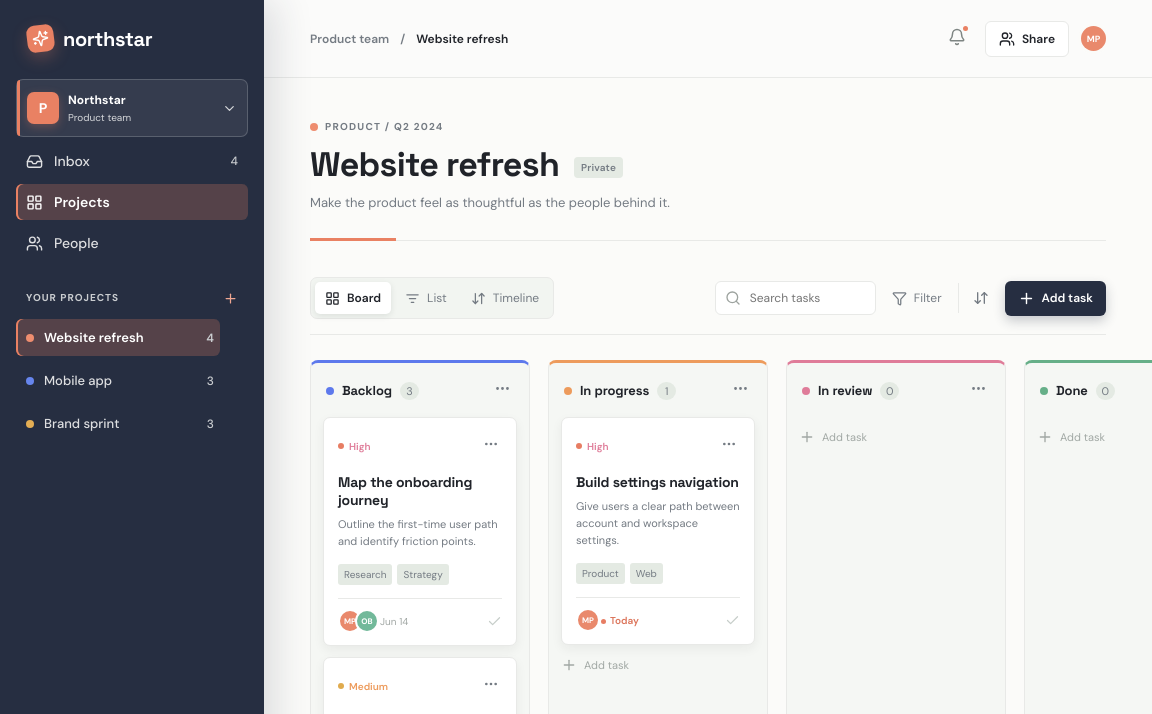
Task creation (Add task modal) › saves issue edits only after Save and discards them with the X control
Click the heading "Map the onboarding journey".
click(405, 491)  # box [338,473,472,509]
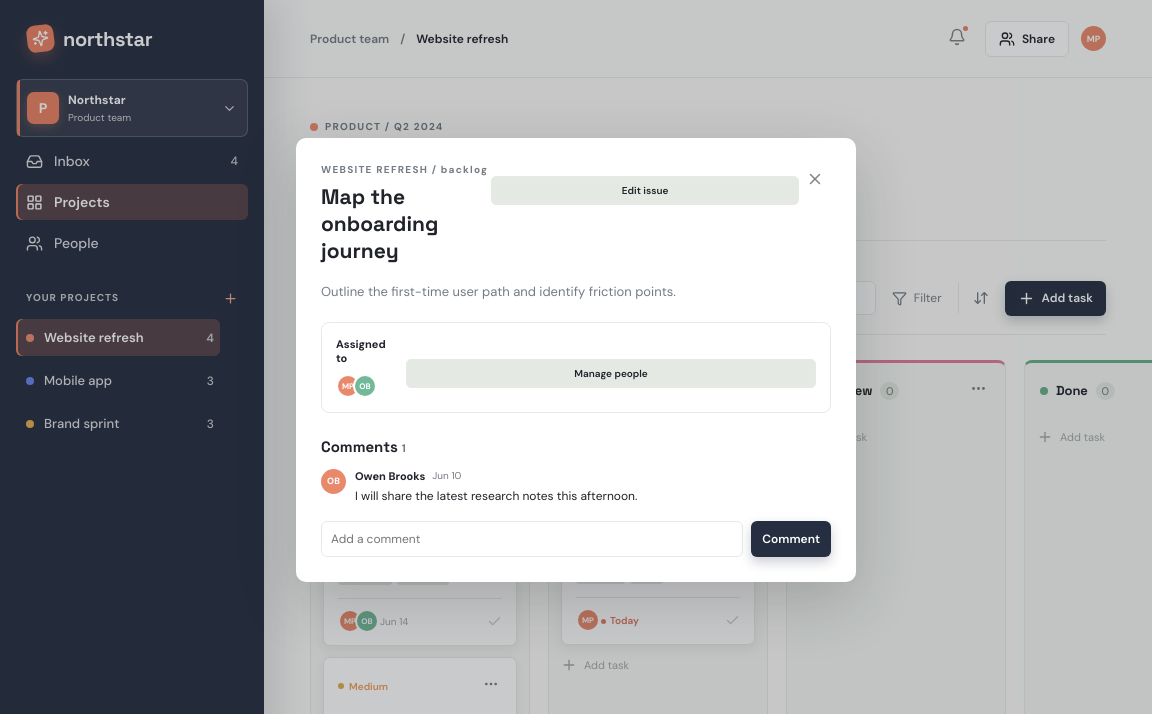
Click the button "Edit issue".
click(645, 190)  # box [491,176,799,205]
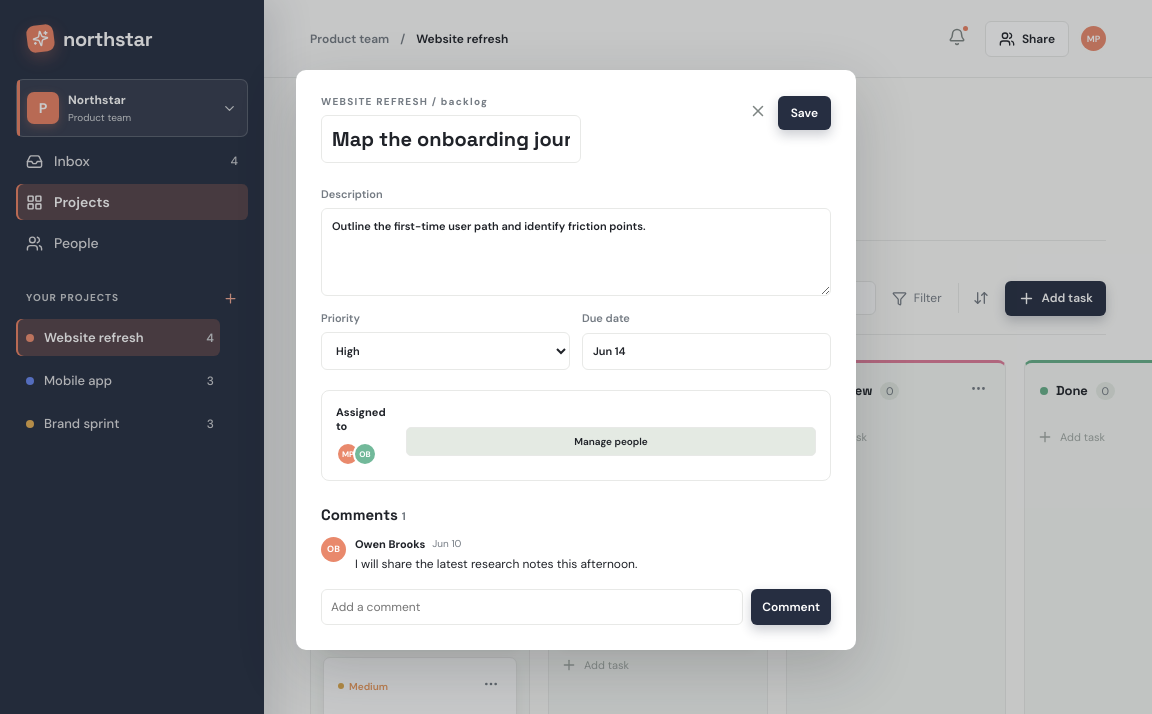
Replace the text in the field named "Issue title" with "Discarded title" at [451, 139], box [321,115,581,163]
Click the button named "Discard issue changes".
click(758, 113)  # box [742,95,774,131]
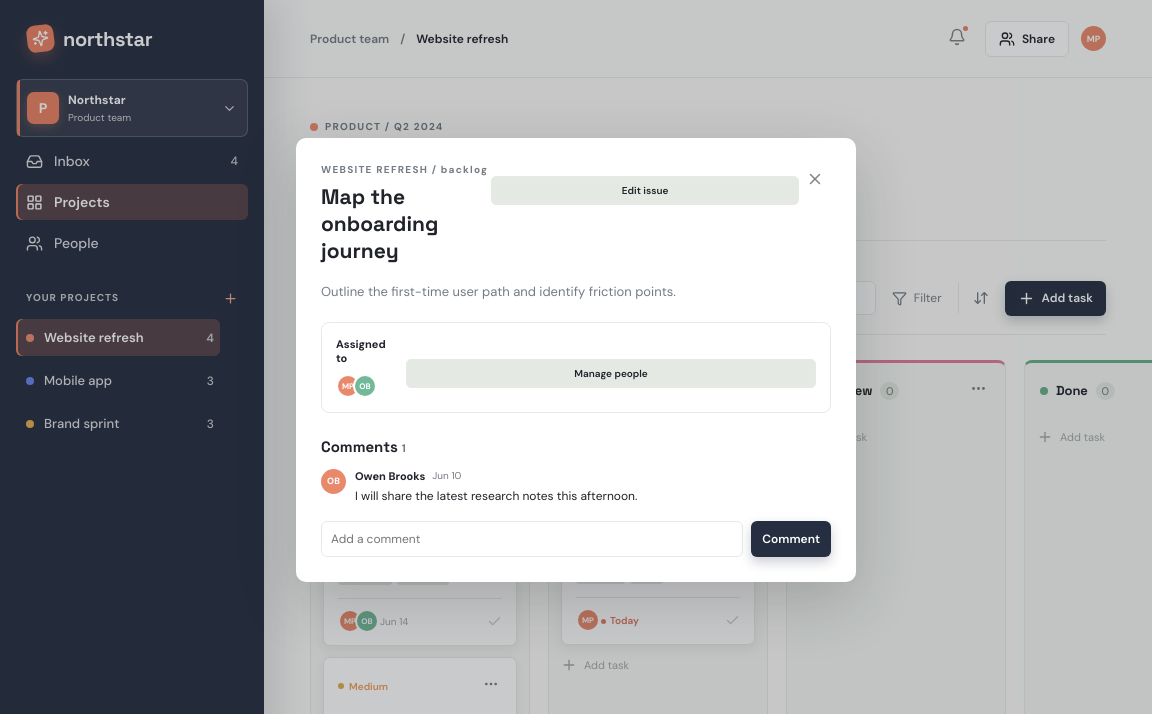
Result: the dialog "Map the onboarding journey" is shown at [321,183,438,264]
Click the button "Edit issue".
click(645, 190)  # box [491,176,799,205]
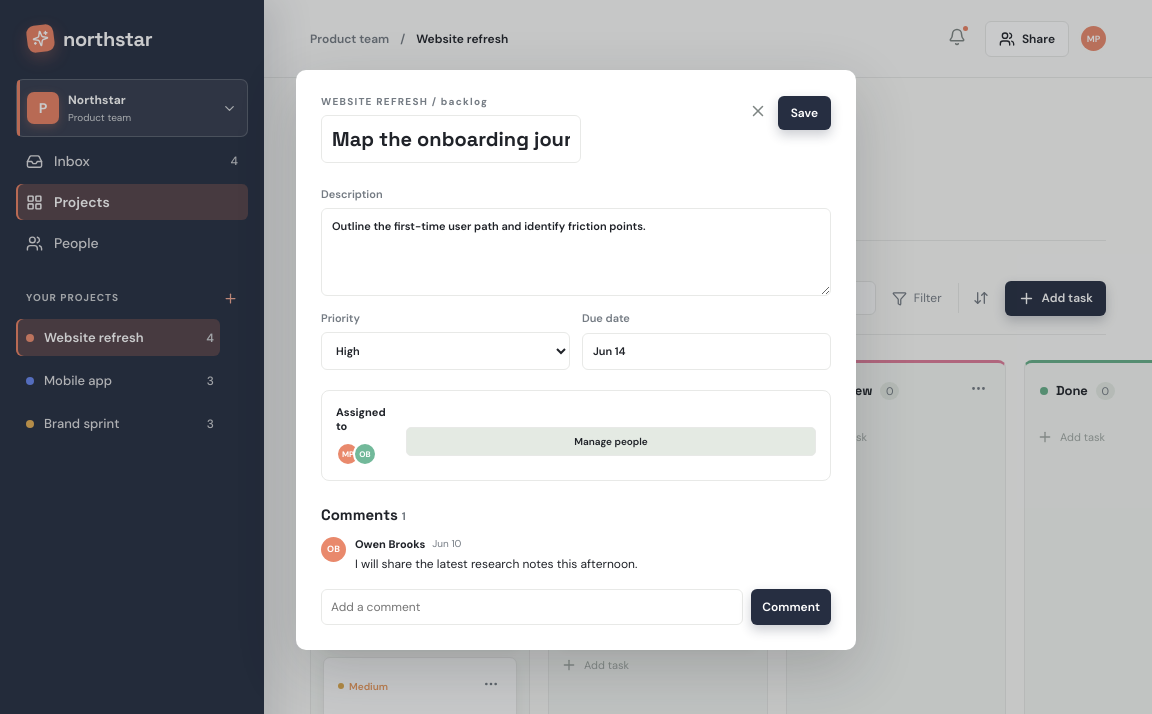
Replace the text in the field named "Issue title" with "Saved title" at [451, 139], box [321,115,581,163]
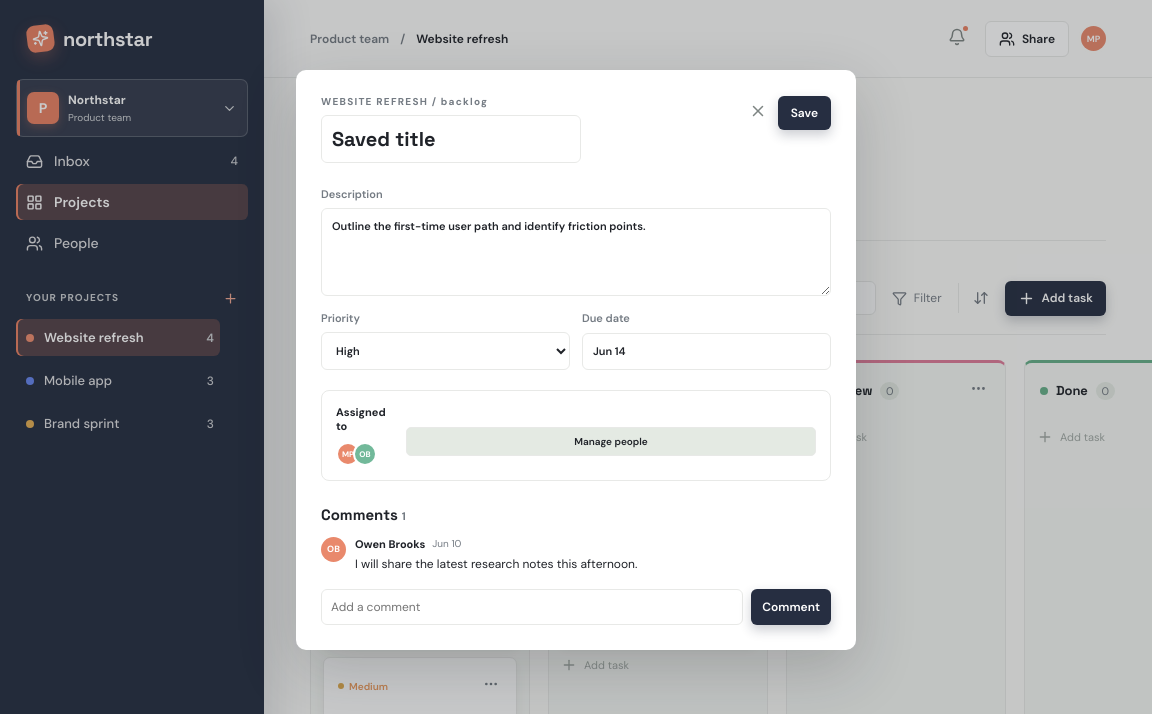
Click the button "Save".
click(804, 113)  # box [778,96,831,130]
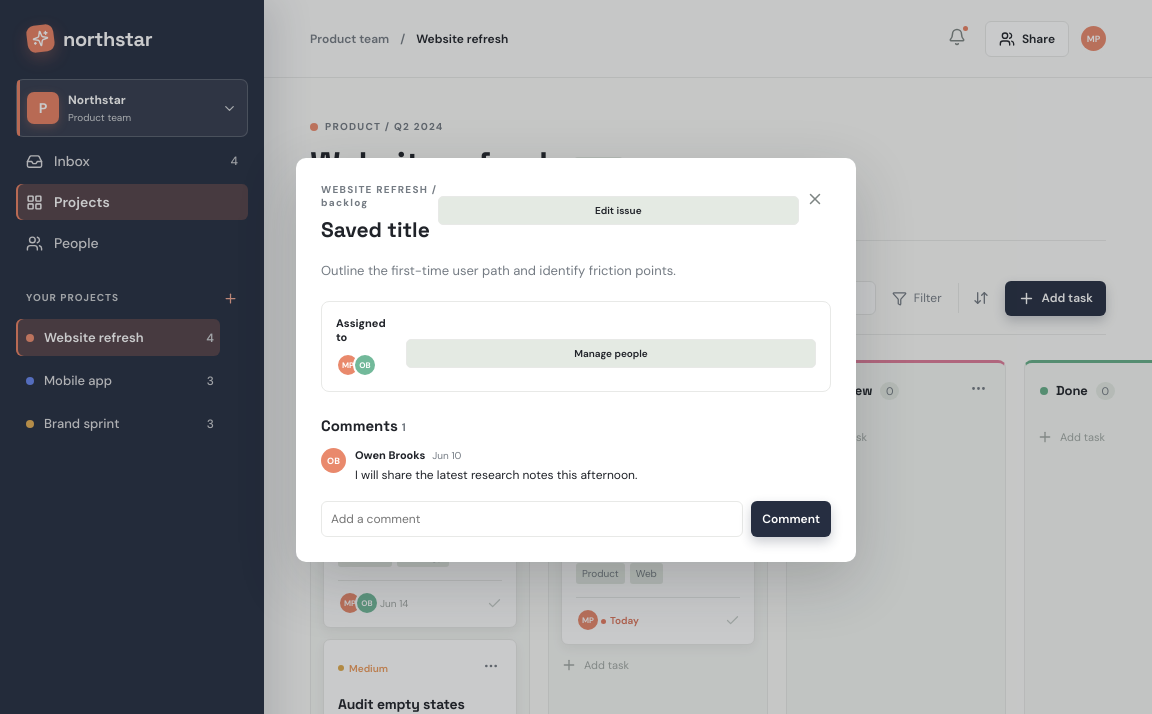
Result: the dialog "Saved title" is shown at [321,216,430,243]
